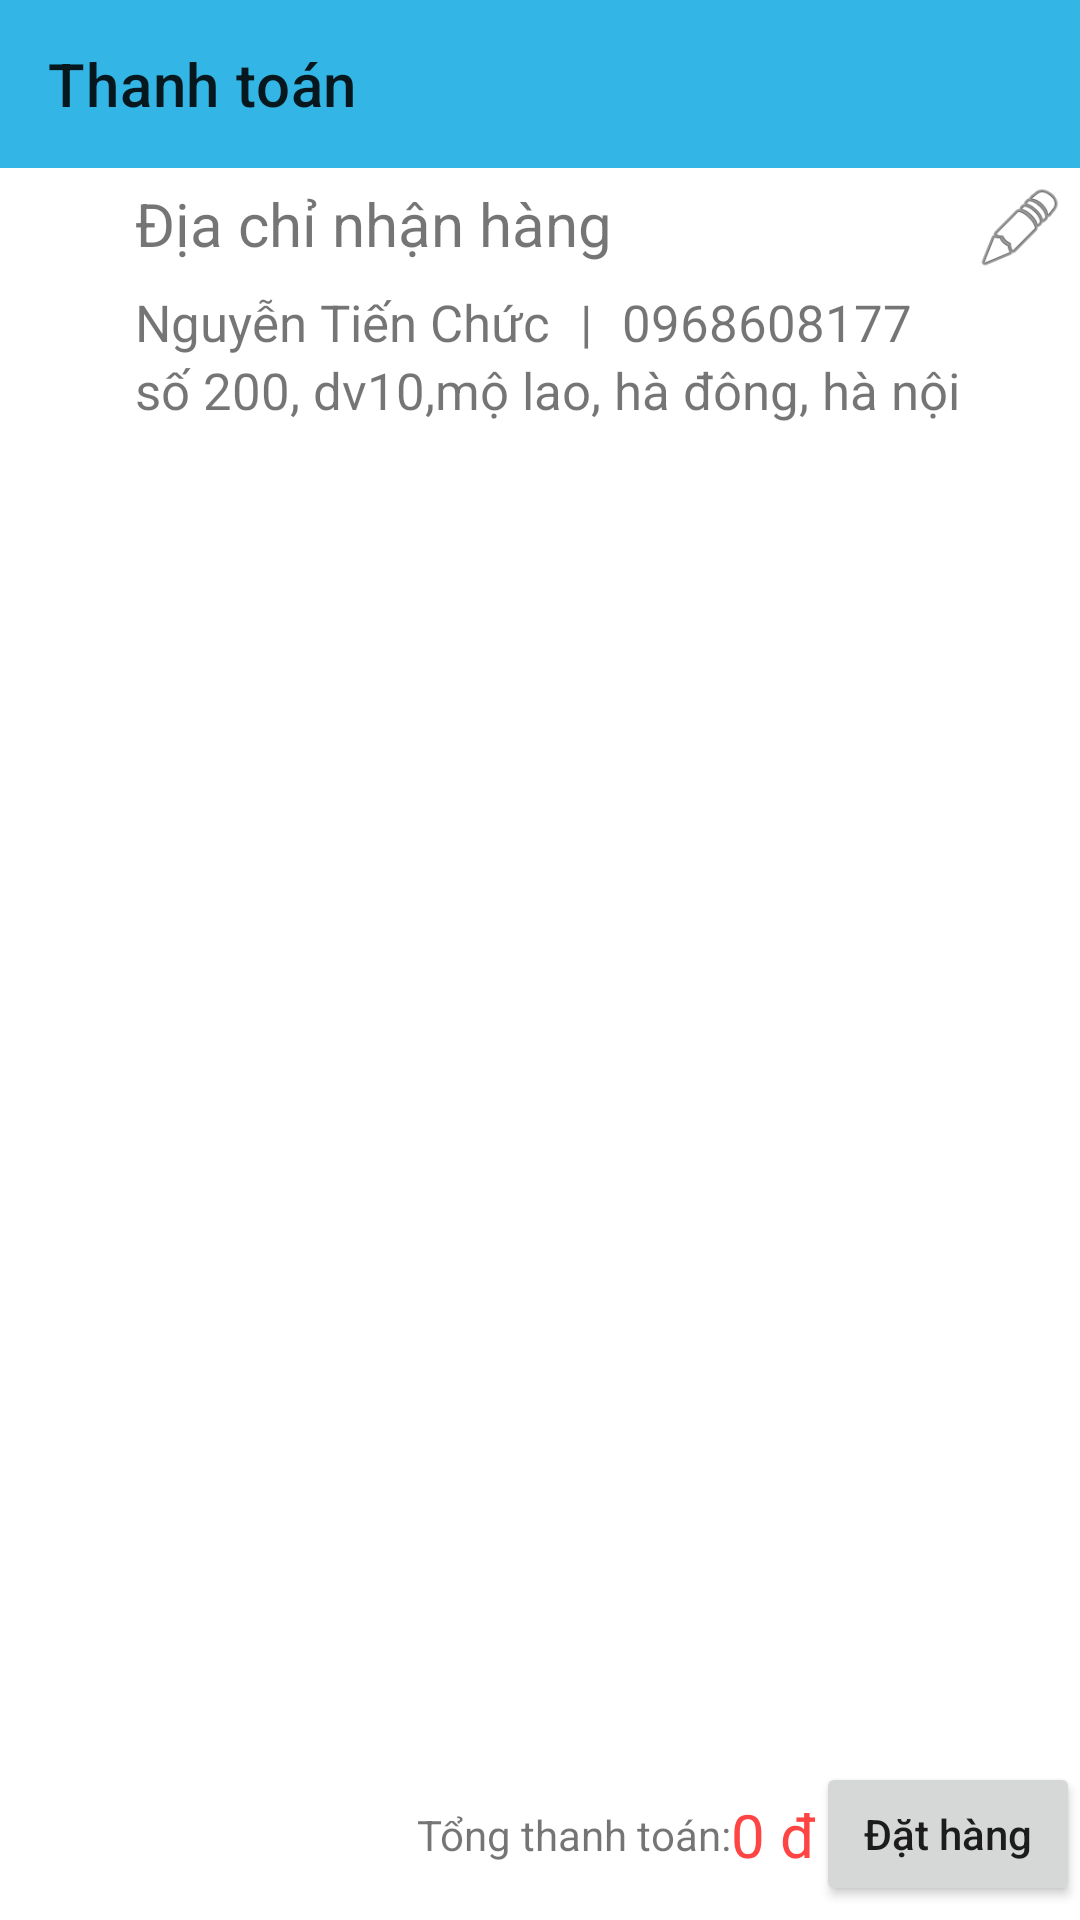

Icons on this 1080*1920 Android screen, each with its box as (x1, y1, x2, y2):
edit: (981, 189, 1058, 266)
